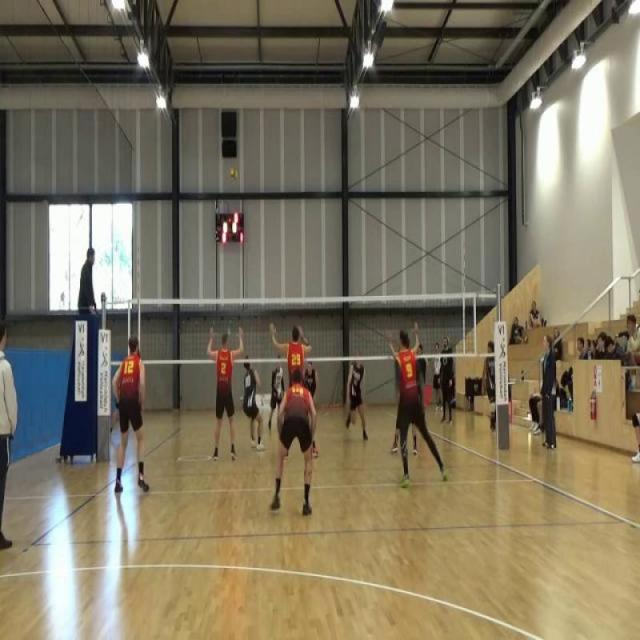volleyball: (229, 165, 239, 182)
